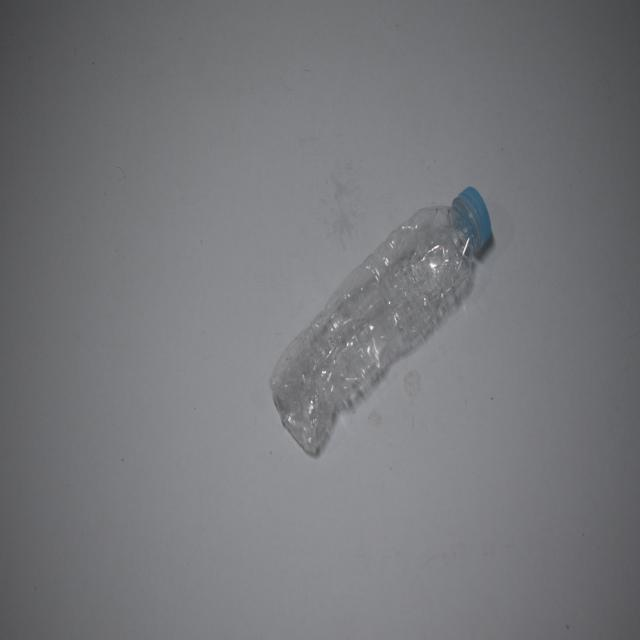empty: (270, 187, 491, 455)
